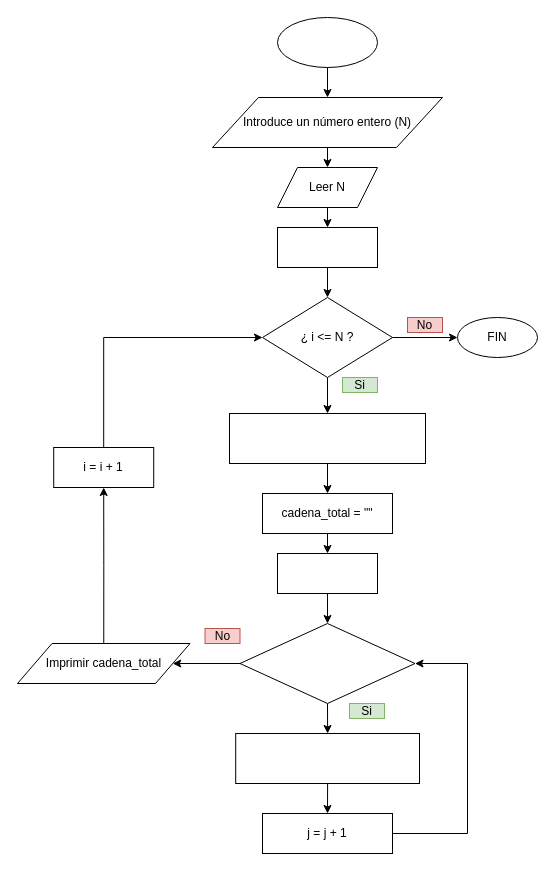
Some shapes in this 555 by 871 pixel diagram are drawn without their labels. Here are the shapes that lost their labels. From the top down, the centre of each, then its label:
(x=327, y=42): INICIO Asteriscos4
(x=327, y=247): i = 1
(x=327, y=438): num_asteriscos = (2*i) - 1
(x=327, y=573): j = 1
(x=327, y=663): ¿ j <= num_asteriscos ?
(x=327, y=758): cadena_total = cadena_total + "*"
